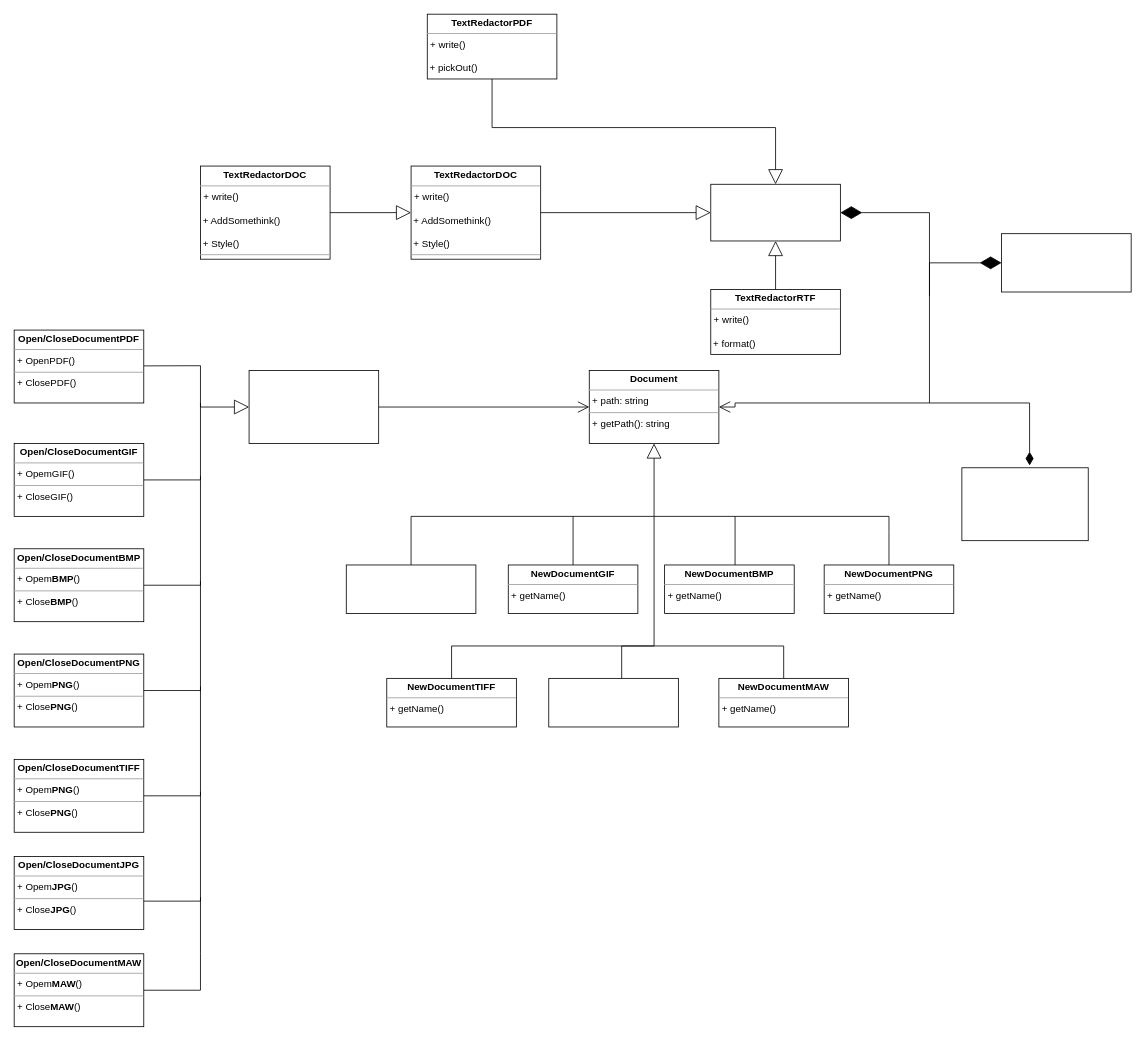
Image size: 1145x1041. Some labels were removed from this diagram. Each missing label, with the centre of its shape:
"NewDocumentJPEG + getName()" goes at (x=613, y=702).
"NewDocumentPDF + getName()" goes at (x=410, y=589).
"Open/CloseDocument + open() + close()" goes at (x=313, y=406).
"PrintDocument + Print()" goes at (x=1066, y=262).
"RedactorDocumentText + write()" goes at (x=775, y=212).
"SafeDocument + SafeAs...() + SafeNewName()" goes at (x=1024, y=504).
